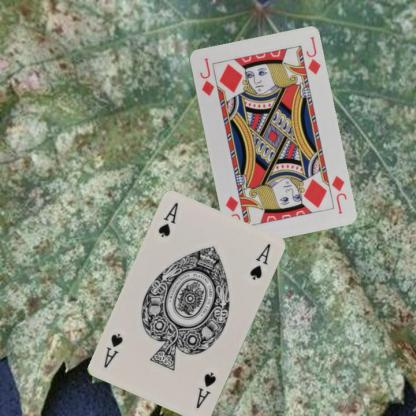As: (193, 370, 218, 410), (155, 201, 180, 239)
Jd: (197, 55, 216, 97), (328, 173, 347, 215)
